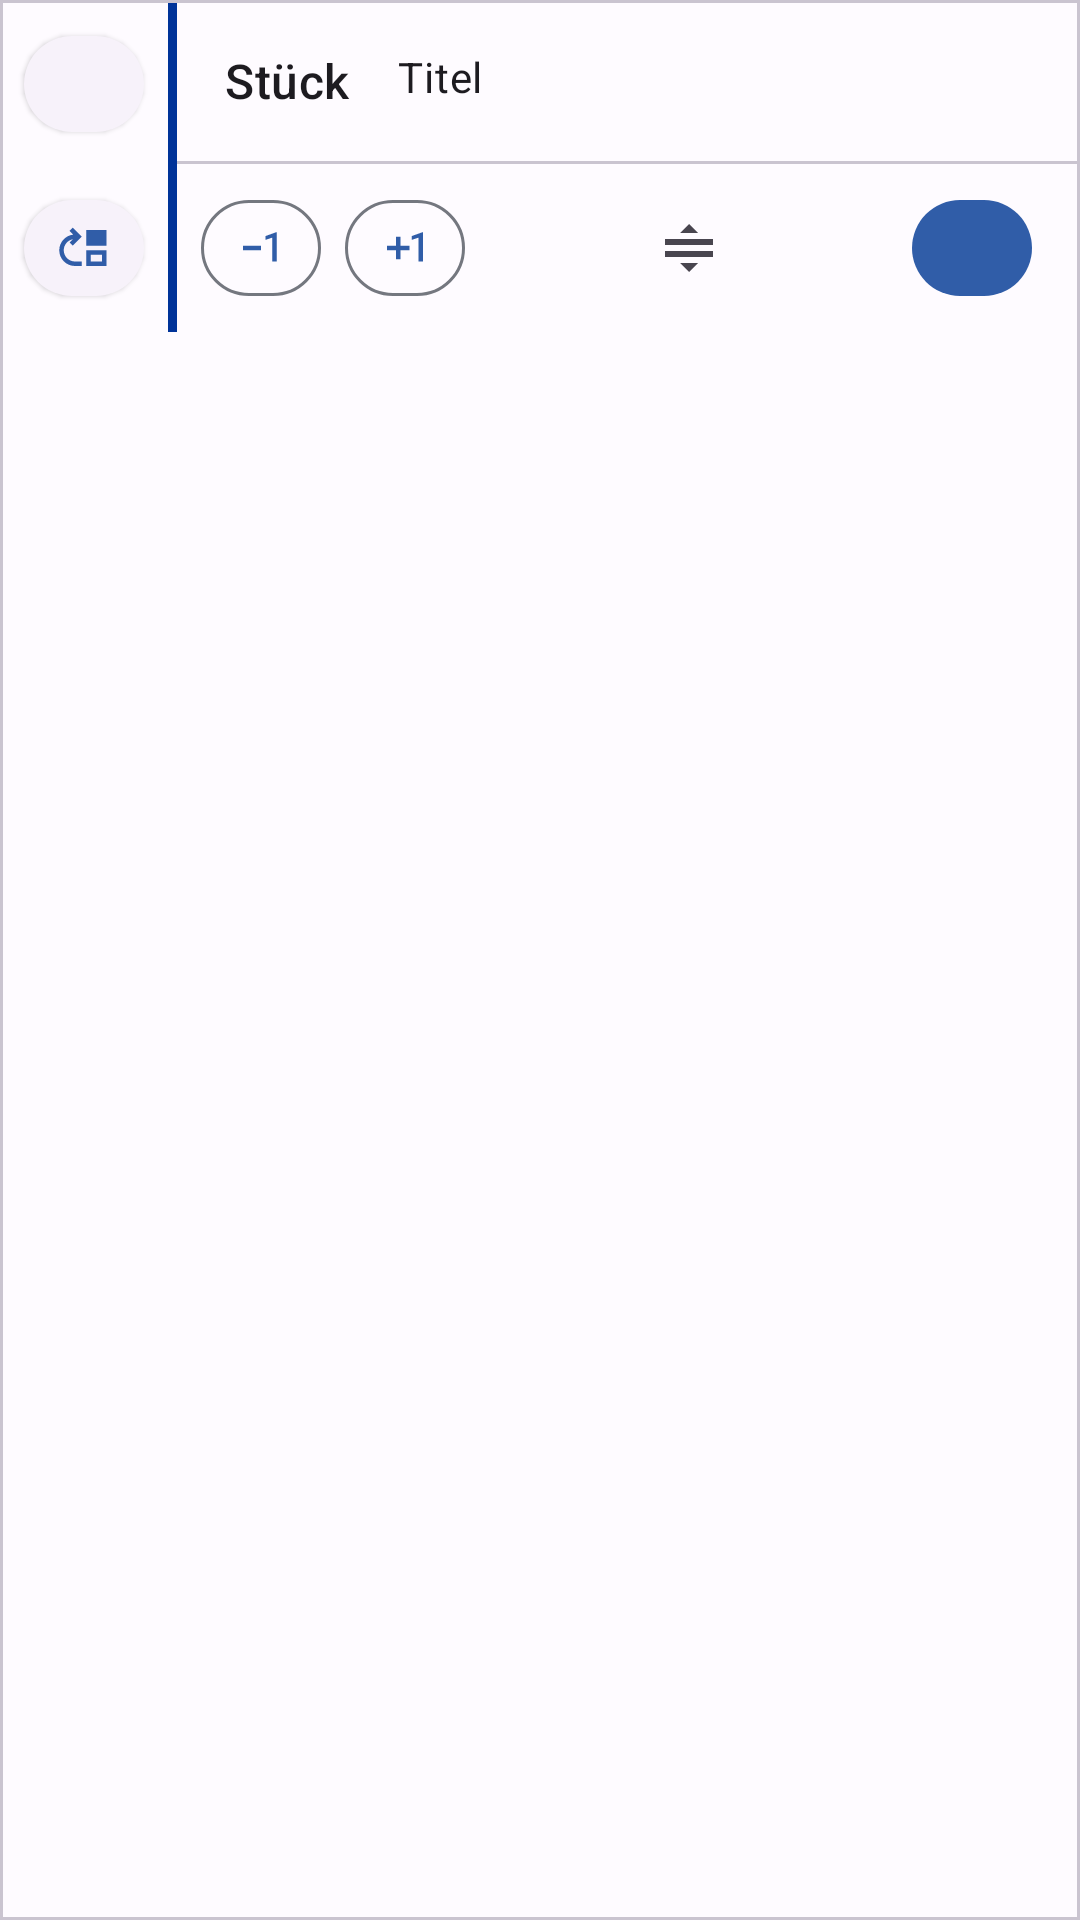

Named icons in this screenshot (1080 x 1920) and their centers, (x=x, y=y):
draggable: (x=689, y=248)
exposure neg: (x=261, y=248)
exposure plus: (x=405, y=248)
